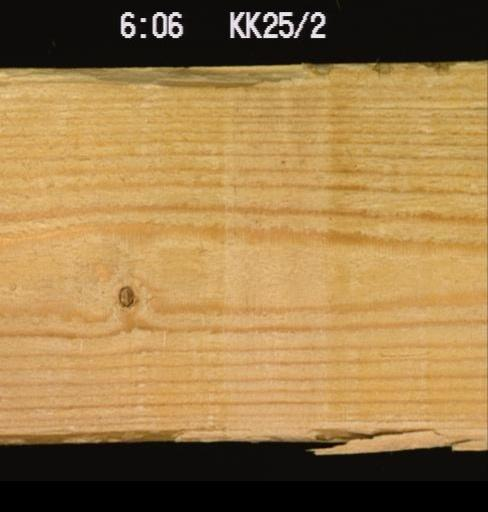dry_knot: (114, 281, 133, 307)
wave: (0, 66, 328, 89), (0, 414, 240, 442), (303, 414, 486, 440)
